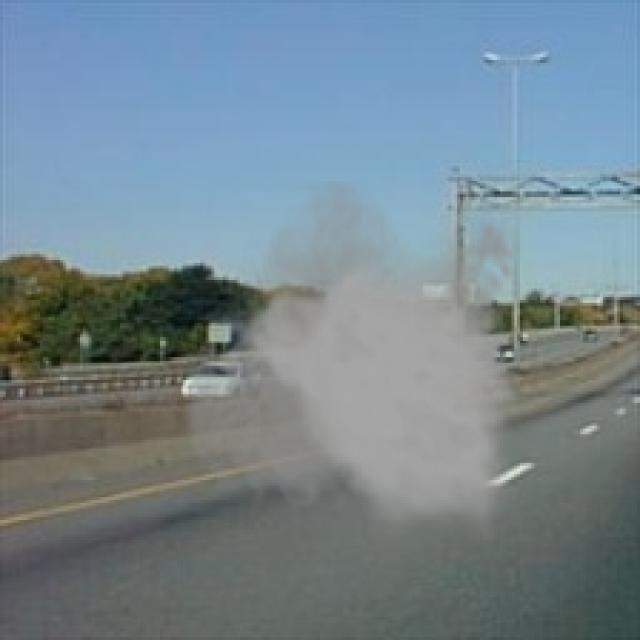Smoke: (180, 180, 526, 540)
